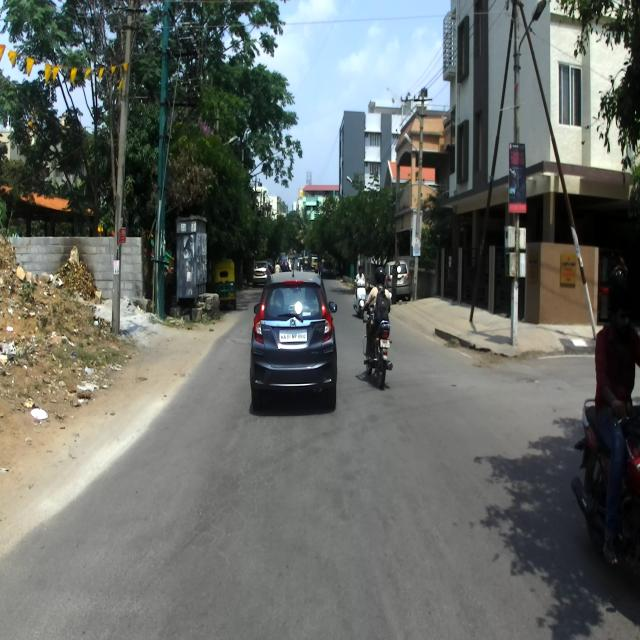car ahead at: (246, 270, 341, 412)
electric pole ahead at: (498, 12, 537, 342), (109, 7, 131, 334)
motorcycle ahead at: (359, 308, 400, 390)
